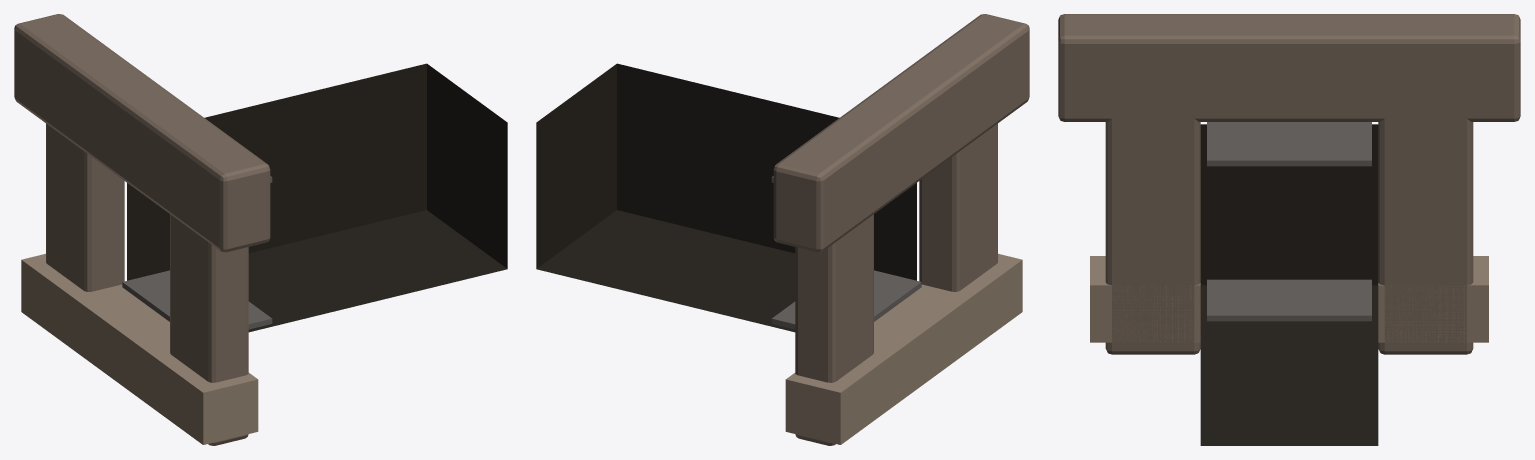
Rendered from boltslot.glb.
The picture shows the model from 3 angles, left to right: view 1: azimuth 30°, elevation 25°; view 2: azimuth 150°, elevation 25°; view 3: azimuth 270°, elevation 25°; orthographic projection. The views are drawn at different scales.
Visible parts, largest first — view 1: slot_socket, slot_frame, slot_sill, slot_iron; view 2: slot_socket, slot_frame, slot_sill, slot_iron; view 3: slot_frame, slot_socket, slot_iron, slot_sill.
Part boxes in pixels (x1,y1,x2,y2): slot_socket: [127, 63, 507, 332]; slot_frame: [14, 14, 270, 445]; slot_sill: [21, 253, 258, 444]; slot_iron: [122, 176, 272, 329]; slot_socket: [536, 63, 916, 332]; slot_frame: [773, 14, 1029, 445]; slot_sill: [785, 253, 1022, 444]; slot_iron: [771, 176, 921, 329]; slot_frame: [1058, 14, 1520, 354]; slot_socket: [1200, 124, 1378, 445]; slot_iron: [1207, 122, 1371, 321]; slot_sill: [1090, 256, 1488, 342].
Bounding box in the file's own units: 1.42 × 1.11 × 1.46.
